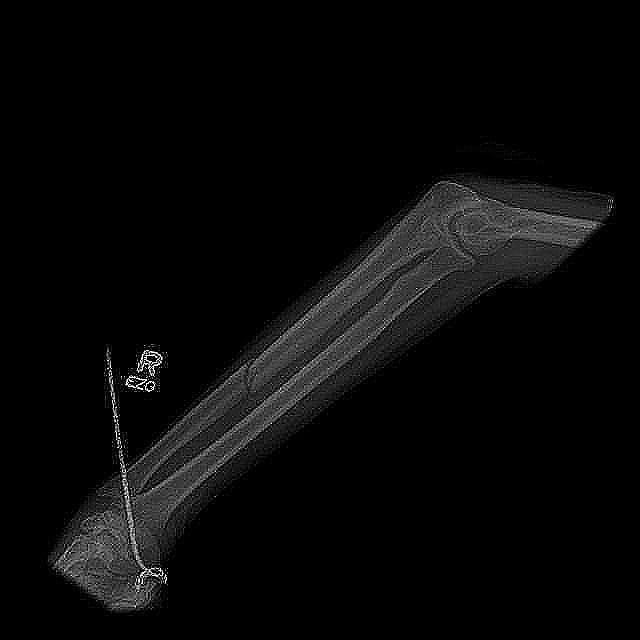bone: (189, 323, 317, 425)
